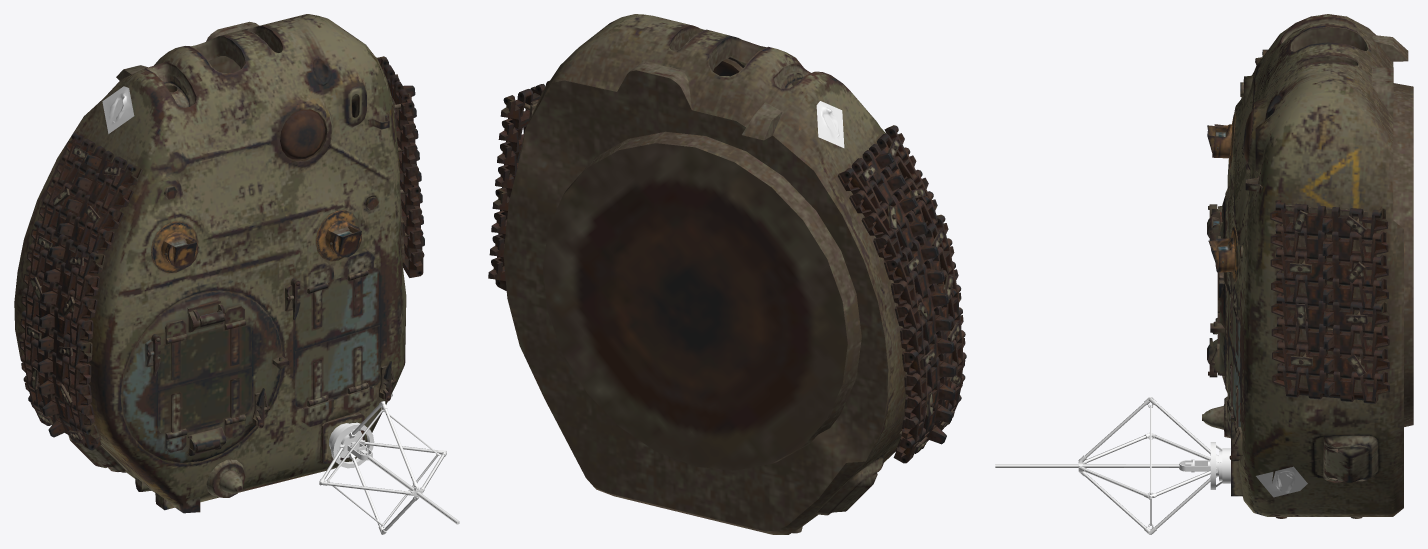
The model's file is Turret_01.glb.
3 views of the same model, side by side, from view 1: azimuth 30°, elevation 25°; view 2: azimuth 150°, elevation 25°; view 3: azimuth 270°, elevation 25° (orthographic). The views are drawn at different scales.
Parts seen in each view (by area): view 1: set_0_group_0, set_0_group_1, set_0_group_2; view 2: set_0_group_0, set_0_group_2; view 3: set_0_group_0, set_0_group_1, set_0_group_2.
Part boxes in pixels (x1=…): set_0_group_0: x1=14, y1=14, x2=424, y2=513; set_0_group_1: x1=319, y1=401, x2=459, y2=534; set_0_group_2: x1=102, y1=86, x2=392, y2=397; set_0_group_0: x1=488, y1=14, x2=966, y2=534; set_0_group_2: x1=816, y1=101, x2=844, y2=147; set_0_group_0: x1=1202, y1=14, x2=1413, y2=518; set_0_group_1: x1=995, y1=397, x2=1230, y2=534; set_0_group_2: x1=1256, y1=466, x2=1307, y2=497.
Size of the model in its own units: 2.41 by 2.59 by 2.13.
Materials: 3 (1 with a texture image).
